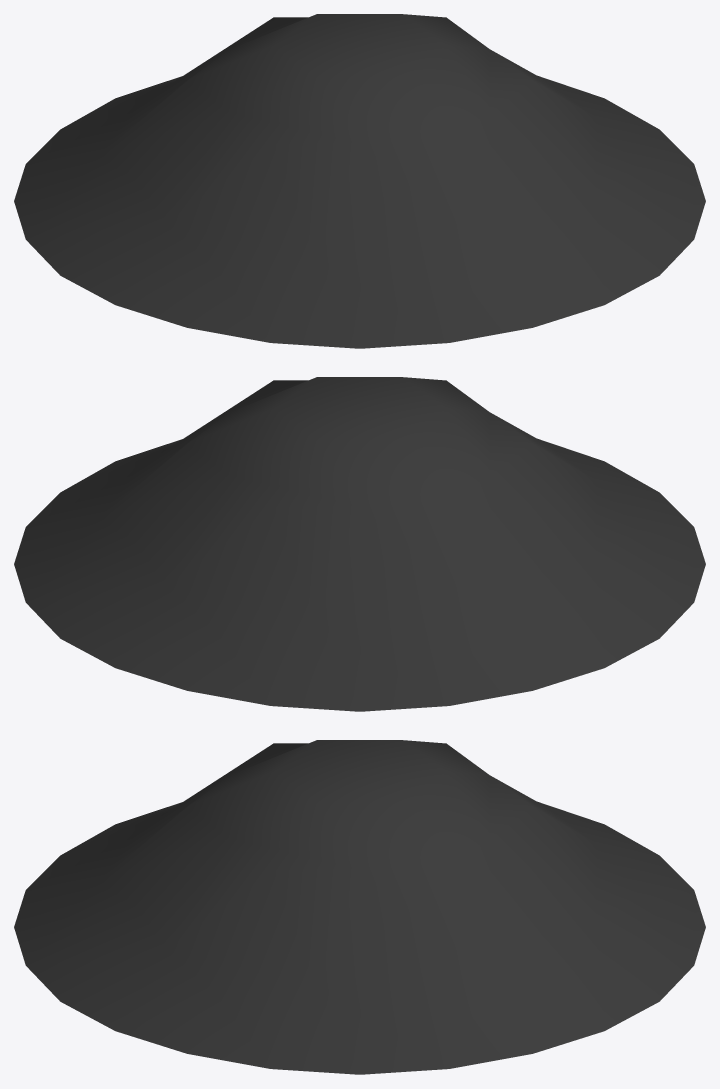
Rendered from Ash.fbx.
The picture shows the model from 3 angles, top to bottom: view 1: azimuth 30°, elevation 25°; view 2: azimuth 150°, elevation 25°; view 3: azimuth 270°, elevation 25°; orthographic projection.
Parts seen in each view (by area): view 1: Ash; view 2: Ash; view 3: Ash.
Part boxes in pixels (left/top/right/bottom): Ash: left=14, top=14, right=705, bottom=348; Ash: left=14, top=377, right=705, bottom=711; Ash: left=14, top=740, right=705, bottom=1074.
Bounding box in the file's own units: 3 × 0.75 × 3.
